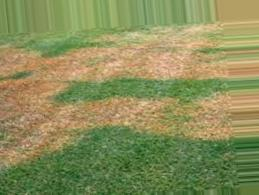patch: (73, 99, 230, 132), (4, 56, 56, 153), (73, 49, 215, 82), (149, 24, 211, 47)
